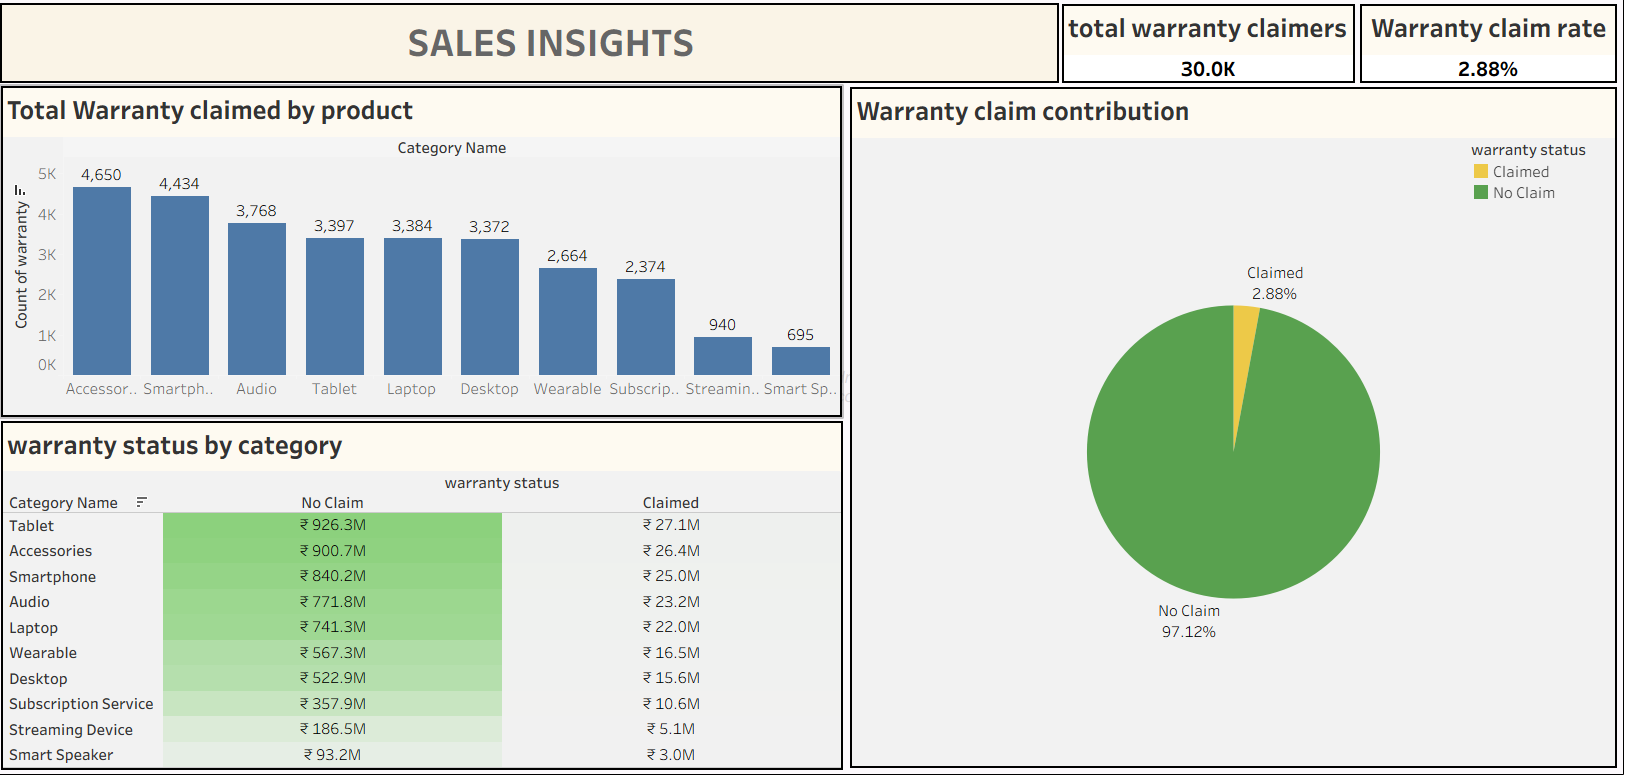

The dashboard page shown, as its layout file describes it:
{"tool":"tableau","page":{"name":"Insights","canvas":[1000,1000],"units":"permille","ordinal":1},"visuals":[{"type":"text","box":[239.5,11.5,203.5,94.3]},{"type":"worksheet","title":"total warranty claimers","mark":"Automatic","box":[652.6,11.5,178.6,100.6]},{"type":"worksheet","title":"warranty claim rate kpi","mark":"Automatic","box":[834.2,11.5,156.6,100.6]},{"type":"worksheet","title":"Total Warranty claimed by product","mark":"Bar","rows":["warranty_4E3B68B63201446C8BA47D8F66FF5594"],"cols":["category_name"],"box":[6.1,115.9,512.5,421.7]},{"type":"worksheet","title":"Warranty claim contribution ","mark":"Pie","box":[523.5,117.2,467.4,867.5]},{"type":"legend","title":"Warranty claim contribution ","param":"[federated.07ung0n18wcl6o1au17g21hvnd9n].[none:Calculation_1476054797423947776:n","box":[901.9,183.4,85.3,103.2]},{"type":"worksheet","title":"warranty status by category","mark":"Square","rows":["category_name"],"cols":["Calculation_1476054797423947776"],"box":[6.1,542.7,513.1,444.6]}]}

Visuals, with their boxes on the dashboard's canvas, which has no fixed pixel size, in thousandths of its width and height (x1, y1, x2, y2). These are canvas units, not pixel positions in the 1628x779 screenshot, which may show the page scaled, cropped or inside an application window:
text: [left=240, top=12, right=443, bottom=106]
"total warranty claimers" worksheet: [left=653, top=12, right=831, bottom=112]
"warranty claim rate kpi" worksheet: [left=834, top=12, right=991, bottom=112]
"Total Warranty claimed by product" worksheet (Bar marks): [left=6, top=116, right=519, bottom=538]
"Warranty claim contribution " worksheet (Pie marks): [left=524, top=117, right=991, bottom=985]
"Warranty claim contribution " legend: [left=902, top=183, right=987, bottom=287]
"warranty status by category" worksheet (Square marks): [left=6, top=543, right=519, bottom=987]
